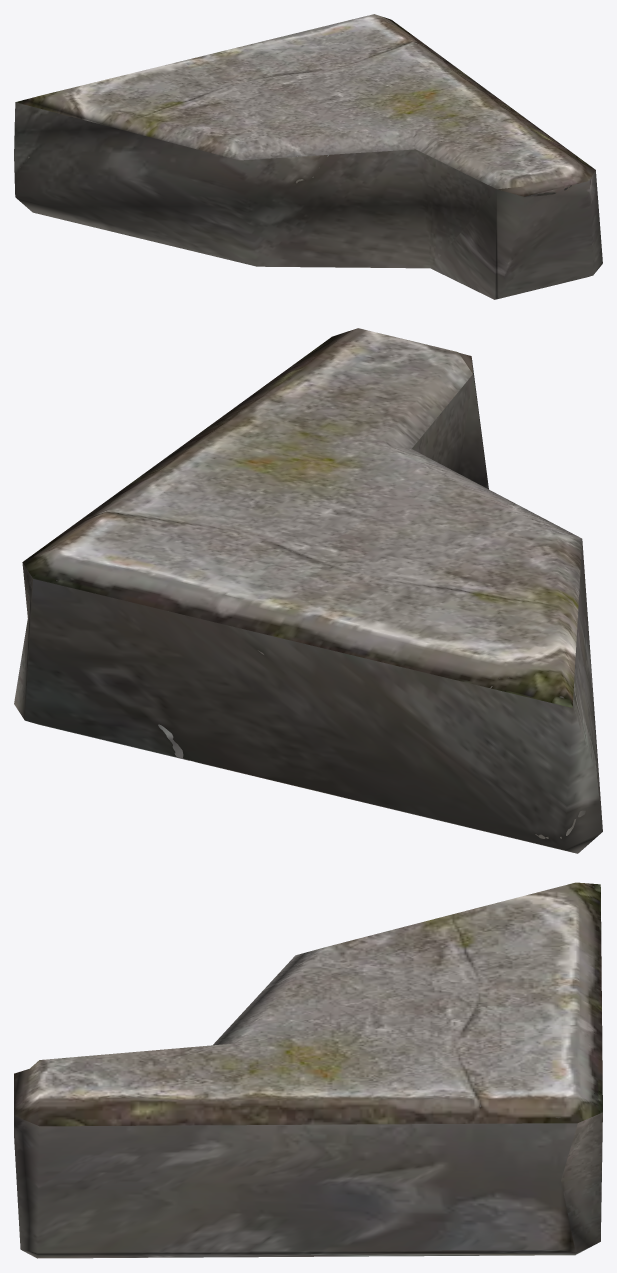
The picture shows the model from 3 angles, top to bottom: view 1: azimuth 30°, elevation 25°; view 2: azimuth 150°, elevation 25°; view 3: azimuth 270°, elevation 25°; orthographic projection. The views are drawn at different scales.
Visible parts, largest first — view 1: SM_Greathall_Floor_Plate_01_LOD0; view 2: SM_Greathall_Floor_Plate_01_LOD0; view 3: SM_Greathall_Floor_Plate_01_LOD0.
Boxes of the visible parts, x1,y1,x2,y2 form: SM_Greathall_Floor_Plate_01_LOD0: (14, 14, 602, 299); SM_Greathall_Floor_Plate_01_LOD0: (14, 328, 602, 853); SM_Greathall_Floor_Plate_01_LOD0: (14, 882, 602, 1258).
Size of the model in its own units: 1 by 0.2899 by 1.
Materials: 2 (2 with a texture image).
